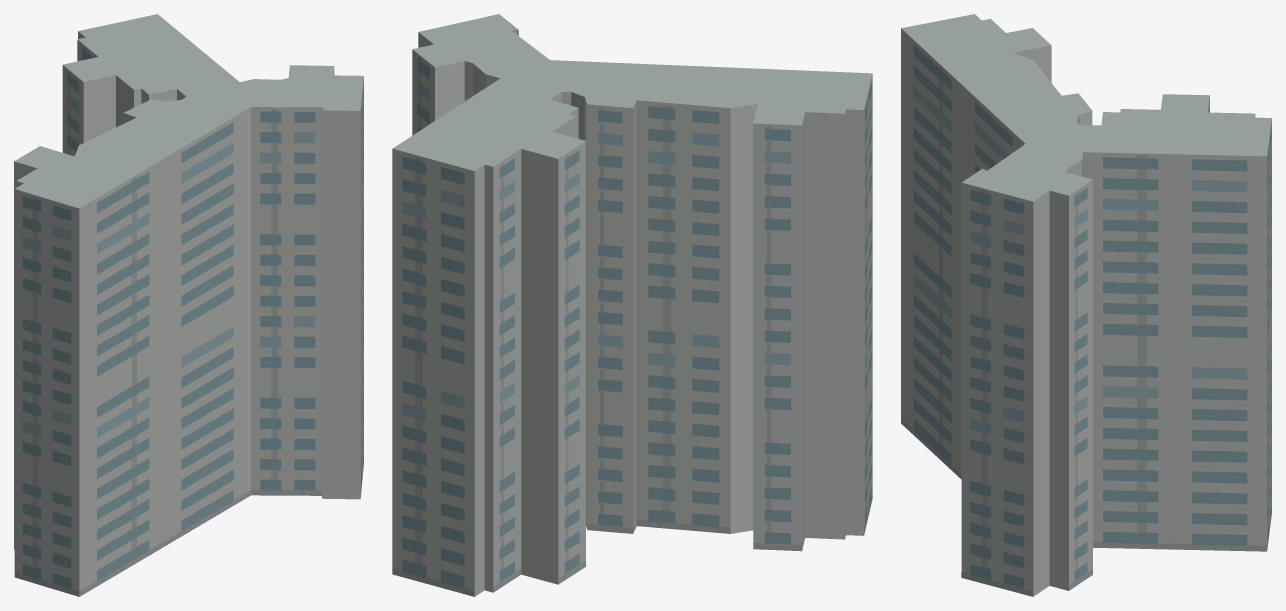
File: residential-bd407c44-2ec3-48a1-9796-a6fb5cbeed0f.glb
The picture shows the model from 3 angles, left to right: view 1: azimuth 30°, elevation 25°; view 2: azimuth 150°, elevation 25°; view 3: azimuth 270°, elevation 25°; orthographic projection. The views are drawn at different scales.
Visible parts, largest first — view 1: residential-bd407c44-2ec3-48a1-9796-a6fb5cbeed0f.tmp; view 2: residential-bd407c44-2ec3-48a1-9796-a6fb5cbeed0f.tmp; view 3: residential-bd407c44-2ec3-48a1-9796-a6fb5cbeed0f.tmp.
Boxes of the visible parts, x1,y1,x2,y2 form: residential-bd407c44-2ec3-48a1-9796-a6fb5cbeed0f.tmp: [14, 14, 363, 596]; residential-bd407c44-2ec3-48a1-9796-a6fb5cbeed0f.tmp: [392, 14, 872, 596]; residential-bd407c44-2ec3-48a1-9796-a6fb5cbeed0f.tmp: [901, 14, 1271, 596].
Bounding box in the file's own units: 54.99 × 54 × 45.92.
